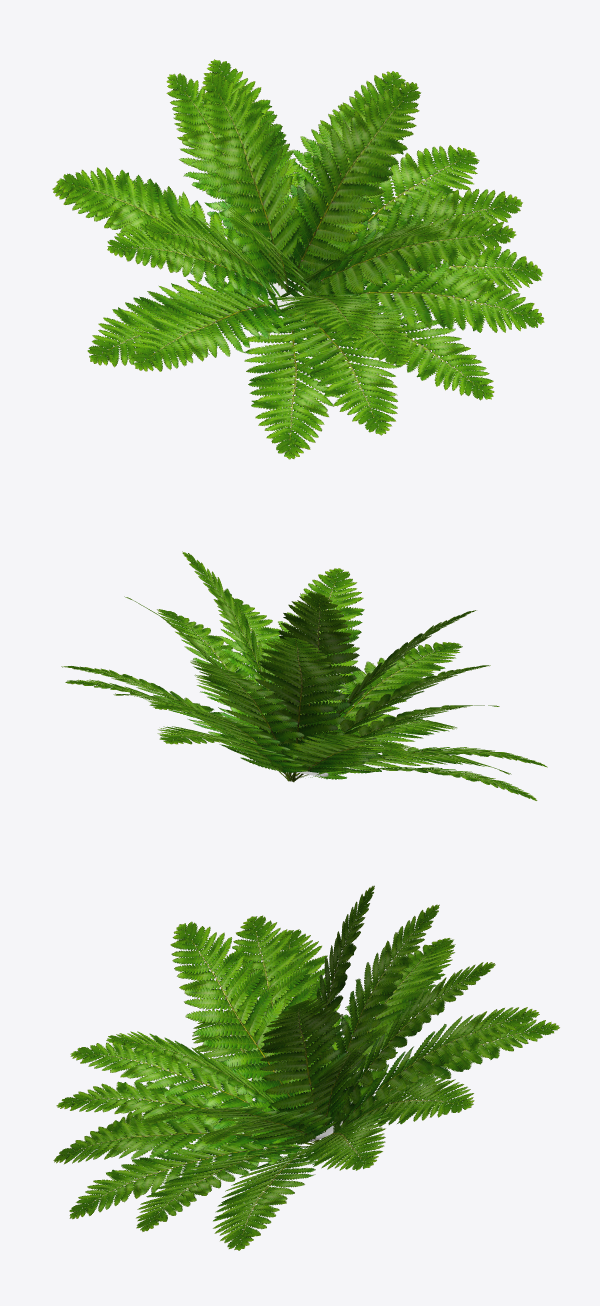
File: Plant_1.FBX
3 renders of one model, top to bottom at view 1: azimuth 30°, elevation 25°; view 2: azimuth 150°, elevation 25°; view 3: azimuth 270°, elevation 25°, orthographic. The views are drawn at different scales.
Parts seen in each view (by area): view 1: Plane023, Plane024, Plane020, Plane022, Plane016, Plane004, Plane021, Plane002, Plane017, Plane013, Plane005, Plane011 (+14 smaller); view 2: Plane013, Plane024, Plane008, Plane015, Plane026, Plane019, Plane023, Plane011, Plane001, Plane016, Plane018, Plane014 (+12 smaller); view 3: Plane025, Plane023, Plane018, Plane021, Plane005, Plane015, Plane013, Plane006, Plane014, Plane010, Plane008, Plane022 (+13 smaller).
Part boxes in pixels (<box>): Plane023: <box>281,82,420,292</box>; Plane024: <box>201,73,303,288</box>; Plane020: <box>130,283,291,371</box>; Plane022: <box>332,262,544,332</box>; Plane016: <box>303,210,516,310</box>; Plane004: <box>244,309,340,459</box>; Plane021: <box>266,308,398,435</box>; Plane002: <box>56,167,260,299</box>; Plane017: <box>304,145,479,276</box>; Plane013: <box>166,73,296,285</box>; Plane005: <box>293,295,494,400</box>; Plane011: <box>302,189,522,296</box>; Plane013: <box>254,636,345,780</box>; Plane024: <box>263,592,361,782</box>; Plane008: <box>190,660,307,780</box>; Plane015: <box>291,642,462,778</box>; Plane026: <box>263,568,364,781</box>; Plane019: <box>271,739,413,780</box>; Plane023: <box>182,551,290,781</box>; Plane011: <box>157,609,289,781</box>; Plane001: <box>157,726,308,781</box>; Plane016: <box>217,597,297,780</box>; Plane018: <box>149,700,304,781</box>; Plane014: <box>295,665,490,778</box>; Plane025: <box>170,921,331,1141</box>; Plane023: <box>259,998,352,1138</box>; Plane018: <box>333,1007,539,1139</box>; Plane021: <box>53,1111,311,1164</box>; Plane005: <box>69,1135,310,1219</box>; Plane015: <box>70,1040,315,1142</box>; Plane013: <box>328,904,439,1125</box>; Plane006: <box>213,1147,321,1250</box>; Plane014: <box>225,915,339,1139</box>; Plane010: <box>56,1081,314,1144</box>; Plane008: <box>326,962,495,1136</box>; Plane022: <box>136,1146,309,1231</box>.
Size of the model in its own units: 53.27 by 32.99 by 48.91.
